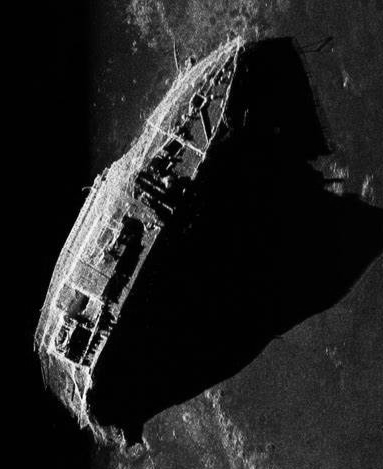ship: (32, 34, 245, 433)
